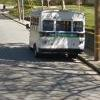Bus: (27, 4, 91, 58)
